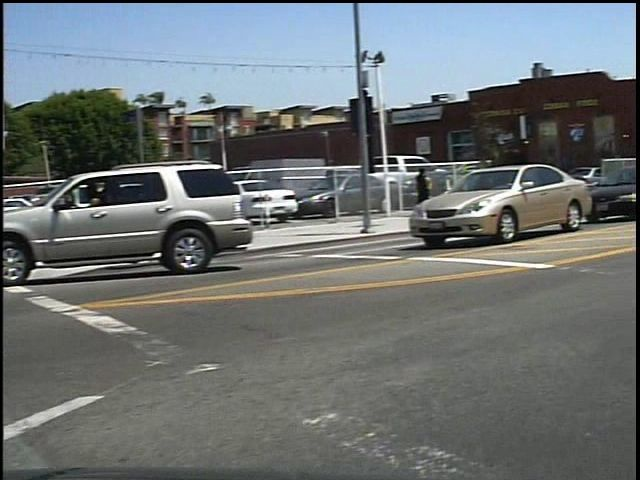person: (419, 167, 445, 226)
